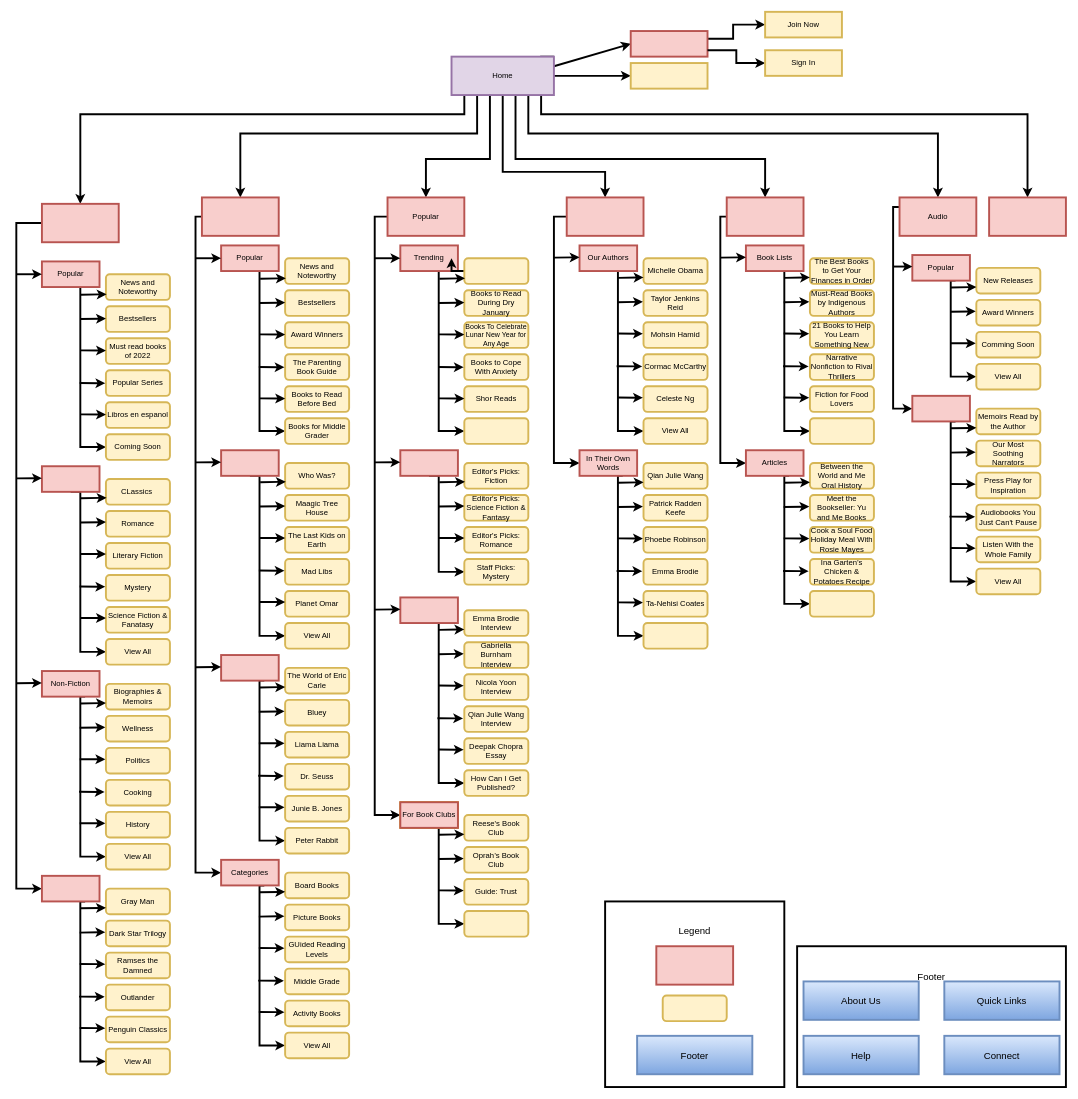
The diagram is 1078 pixels wide and 1099 high, and some of its shapes have lost their labels. Each missing label, with the centre of its shape:
"Anti-Racist Resources" goes at (x=496, y=430).
"Authors & Events" goes at (x=604, y=216).
"Become a Member" goes at (x=668, y=43).
"Beloved Characters" goes at (x=249, y=667).
"Books" goes at (x=80, y=223).
"Button" goes at (x=694, y=965).
"Expert Picks" goes at (x=429, y=462).
"Featured" goes at (x=941, y=408).
"Features & Interviews" goes at (x=429, y=610).
"Fiction" goes at (x=70, y=478).
"Guide: Book Lovers" goes at (x=496, y=923).
"Kids" goes at (x=240, y=216).
"Laura Hankin" goes at (x=675, y=635).
"Manga and Graphic Novels" goes at (x=842, y=430).
"Page" goes at (x=694, y=1008).
"Recommendations" goes at (x=764, y=216).
"Search" goes at (x=1027, y=216).
"Series" goes at (x=70, y=888).
"Shopping Cart" goes at (x=668, y=75).
"Trending Series" goes at (x=249, y=462).
"Trending This Week" goes at (x=496, y=270).
"Vallery Lomas’ Blueberry Buckle Recipe" goes at (x=842, y=603).
